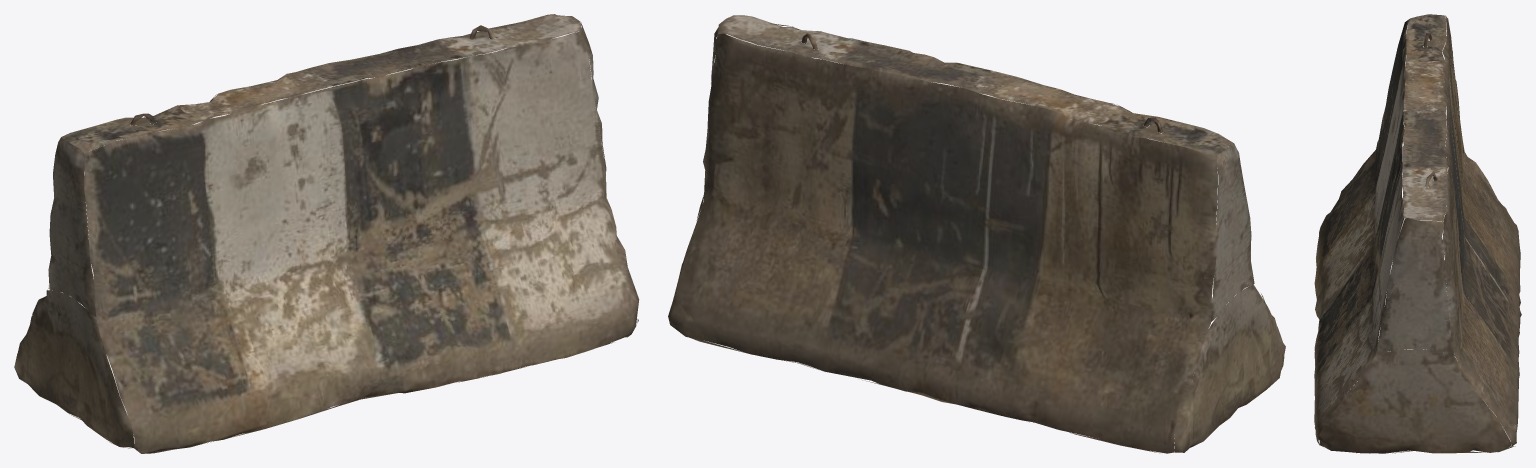
Rendered from barrier.glb.
3 renders of one model, left to right at view 1: azimuth 30°, elevation 25°; view 2: azimuth 150°, elevation 25°; view 3: azimuth 270°, elevation 25°, orthographic. The views are drawn at different scales.
Visible parts, largest first — view 1: Barrier; view 2: Barrier; view 3: Barrier.
Part boxes in pixels (x1,y1,x2,y2): Barrier: (14, 14, 639, 453); Barrier: (668, 15, 1285, 453); Barrier: (1314, 14, 1521, 453).
Bounding box in the file's own units: 1.54 × 0.8336 × 0.6361.
1 material, 1 textured.
